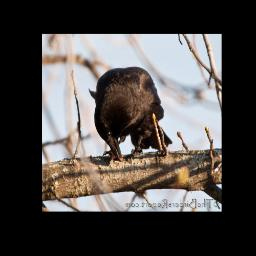Crow: (86, 65, 174, 162)
